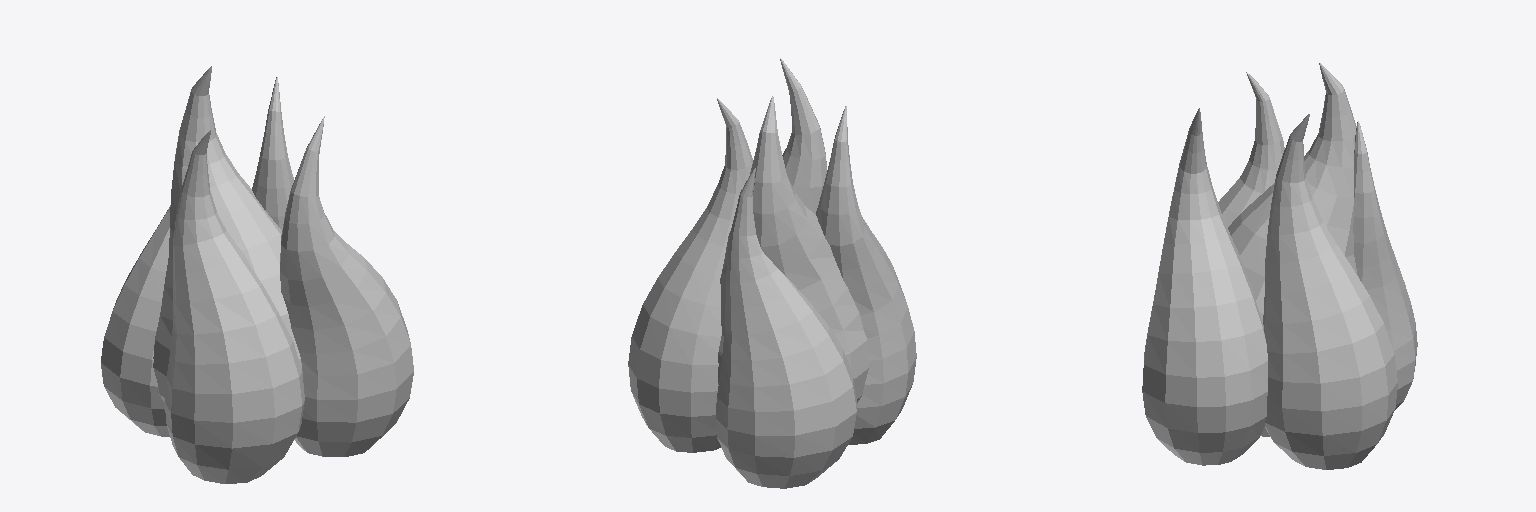
The model's file is fire_000004.obj.
The picture shows the model from 3 angles: view 1: azimuth 30°, elevation 25°; view 2: azimuth 150°, elevation 25°; view 3: azimuth 270°, elevation 25°; orthographic projection.
Parts seen in each view (by area): view 1: flame_NurbsPath.015; view 2: flame_NurbsPath.015; view 3: flame_NurbsPath.015.
Boxes of the visible parts, box(x1,y1,x2,y2) form: flame_NurbsPath.015: box(101, 66, 413, 483); flame_NurbsPath.015: box(628, 58, 916, 488); flame_NurbsPath.015: box(1142, 63, 1417, 469).
Bounding box in the file's own units: 0.7542 × 1.16 × 0.7985.